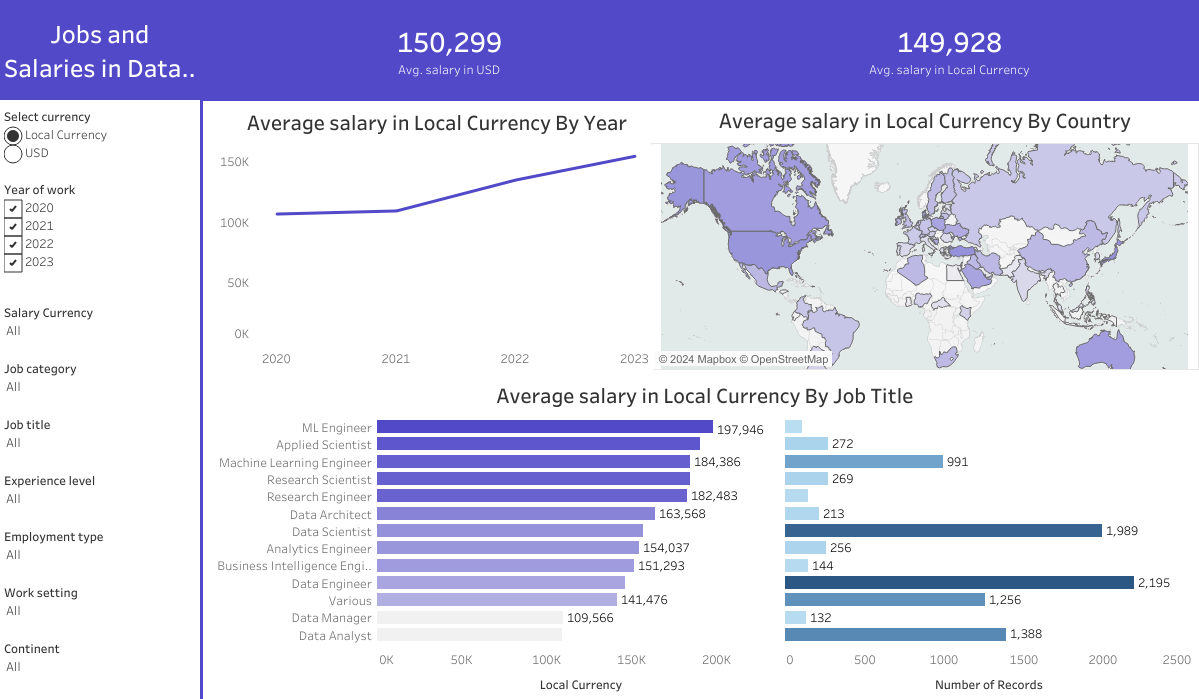

What the dashboard file says about the page in this screenshot:
{"tool":"tableau","page":{"name":"Dashboard 1","canvas":[1200,700],"ordinal":0},"visuals":[{"type":"text","box":[0,0,200,100]},{"type":"worksheet","title":"Summary","mark":"Automatic","box":[200,0,1000,100]},{"type":"blank","box":[200,100,3,600]},{"type":"worksheet","title":"Map","mark":"Automatic","box":[651,100,548,270]},{"type":"parameter","param":"[Parameters].[Parameter 1]","box":[0,102,200,70]},{"type":"worksheet","title":"Graph","mark":"Automatic","rows":["Calculation_276408469551222784"],"cols":["work_year"],"box":[220,102,434,270]},{"type":"filter","title":"Map","param":"[federated.01ib7de0p3k7c81c2b1hu0c9x6ga].[yr:work_year:ok]","box":[0,172,200,127]},{"type":"filter","title":"Map","param":"[federated.01ib7de0p3k7c81c2b1hu0c9x6ga].[none:salary_currency:nk]","box":[0,299,200,52]},{"type":"filter","title":"Map","param":"[federated.01ib7de0p3k7c81c2b1hu0c9x6ga].[none:job_category:nk]","box":[0,351,200,52]},{"type":"worksheet","title":"Job title","mark":"Automatic","cols":["Calculation_276408469551222784","jobs_in_data.csv_A9555A27A66F4EDB8AC7E321B9D595E3"],"box":[217,375,976,325]},{"type":"filter","title":"Map","param":"[federated.01ib7de0p3k7c81c2b1hu0c9x6ga].[job_title (group)]","box":[0,403,200,52]},{"type":"filter","title":"Map","param":"[federated.01ib7de0p3k7c81c2b1hu0c9x6ga].[none:experience_level:nk]","box":[0,455,200,52]},{"type":"filter","title":"Map","param":"[federated.01ib7de0p3k7c81c2b1hu0c9x6ga].[none:employment_type:nk]","box":[0,507,200,52]},{"type":"filter","title":"Map","param":"[federated.01ib7de0p3k7c81c2b1hu0c9x6ga].[none:work_setting:nk]","box":[0,559,200,52]},{"type":"filter","title":"Map","param":"[federated.01ib7de0p3k7c81c2b1hu0c9x6ga].[none:Continent:nk]","box":[0,611,200,52]}]}

Visuals, with their boxes in screenshot pixels (x1, y1, x2, y2), scaled from the page's 1200x700 canvas onto the 1199x699 screenshot:
text: <region>0, 0, 200, 100</region>
"Summary" worksheet: <region>200, 0, 1198, 100</region>
blank: <region>200, 100, 203, 698</region>
"Map" worksheet: <region>650, 100, 1198, 369</region>
parameter: <region>0, 102, 200, 172</region>
"Graph" worksheet: <region>220, 102, 653, 371</region>
"Map" filter: <region>0, 172, 200, 299</region>
"Map" filter: <region>0, 299, 200, 350</region>
"Map" filter: <region>0, 350, 200, 402</region>
"Job title" worksheet: <region>217, 374, 1192, 698</region>
"Map" filter: <region>0, 402, 200, 454</region>
"Map" filter: <region>0, 454, 200, 506</region>
"Map" filter: <region>0, 506, 200, 558</region>
"Map" filter: <region>0, 558, 200, 610</region>
"Map" filter: <region>0, 610, 200, 662</region>
